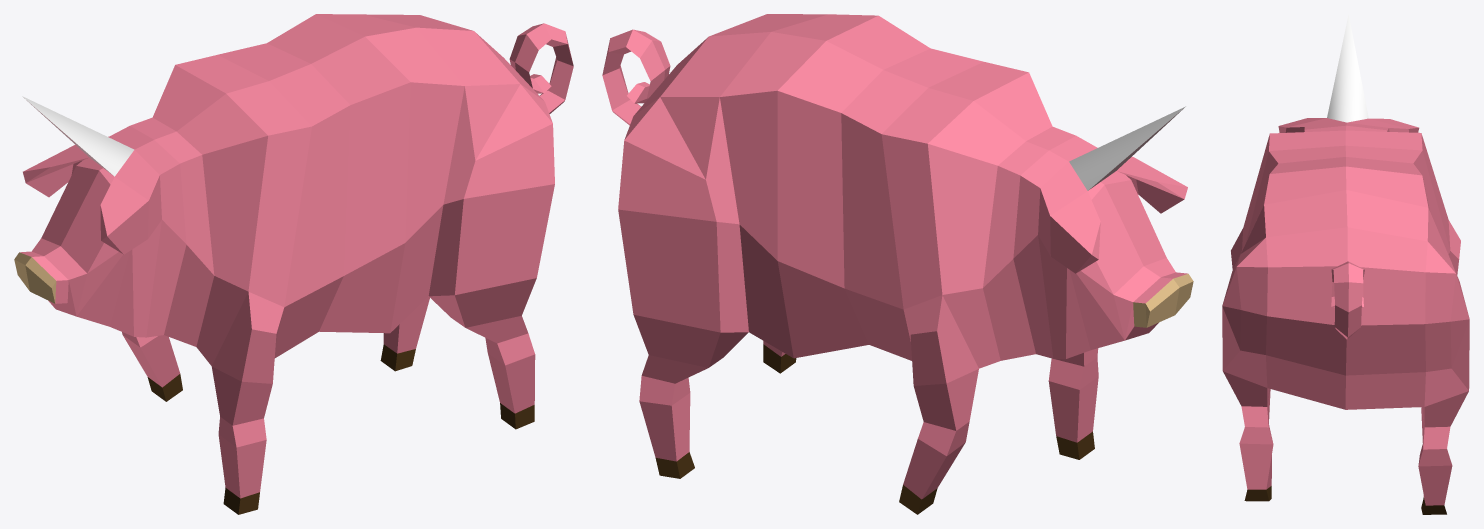
The model's file is pigWalking10.obj.
3 renders of one model, left to right at view 1: azimuth 30°, elevation 25°; view 2: azimuth 150°, elevation 25°; view 3: azimuth 270°, elevation 25°, orthographic. The views are drawn at different scales.
Parts seen in each view (by area): view 1: Pig_Cylinder; view 2: Pig_Cylinder; view 3: Pig_Cylinder.
Part boxes in pixels (x1,y1,x2,y2): Pig_Cylinder: [14, 14, 573, 514]; Pig_Cylinder: [602, 14, 1193, 514]; Pig_Cylinder: [1222, 15, 1469, 514].
Size of the model in its own units: 22.91 by 16.34 by 11.11.
